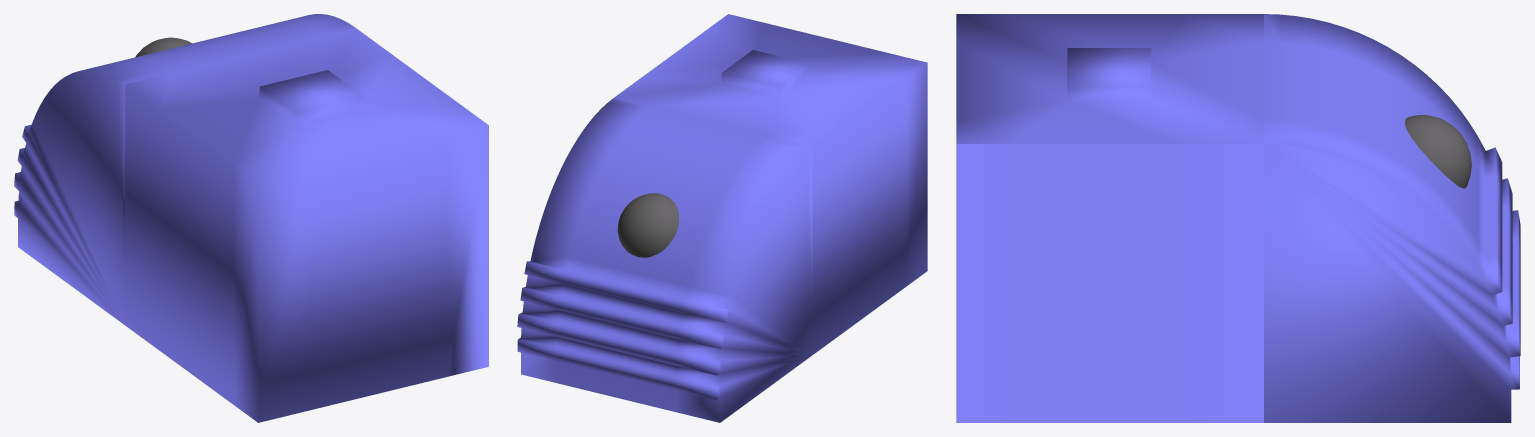
The model's file is Autopilot-Block_Small_Constr3.fbx.
The picture shows the model from 3 angles, left to right: view 1: azimuth 30°, elevation 25°; view 2: azimuth 150°, elevation 25°; view 3: azimuth 270°, elevation 25°; orthographic projection. The views are drawn at different scales.
Visible parts, largest first — view 1: Cube.001, Sphere.000; view 2: Cube.001, Sphere.000; view 3: Cube.001, Sphere.000.
Part boxes in pixels (left/top/right/bottom): Cube.001: left=14, top=14, right=488, bottom=422; Sphere.000: left=135, top=37, right=191, bottom=57; Cube.001: left=517, top=14, right=927, bottom=422; Sphere.000: left=617, top=193, right=678, bottom=257; Cube.001: left=956, top=14, right=1520, bottom=422; Sphere.000: left=1405, top=115, right=1471, bottom=188.
Bounding box in the file's own units: 0.5001 × 0.5258 × 0.9173.
